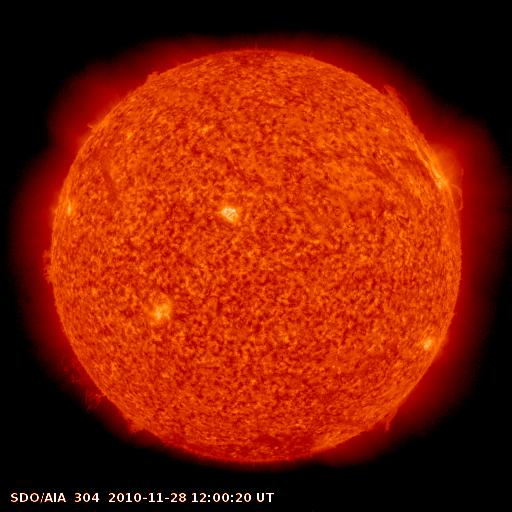prominence: (54, 346, 115, 417), (364, 389, 425, 442), (378, 62, 425, 128), (29, 235, 73, 296), (128, 56, 178, 98), (120, 405, 150, 446), (451, 177, 476, 212)
